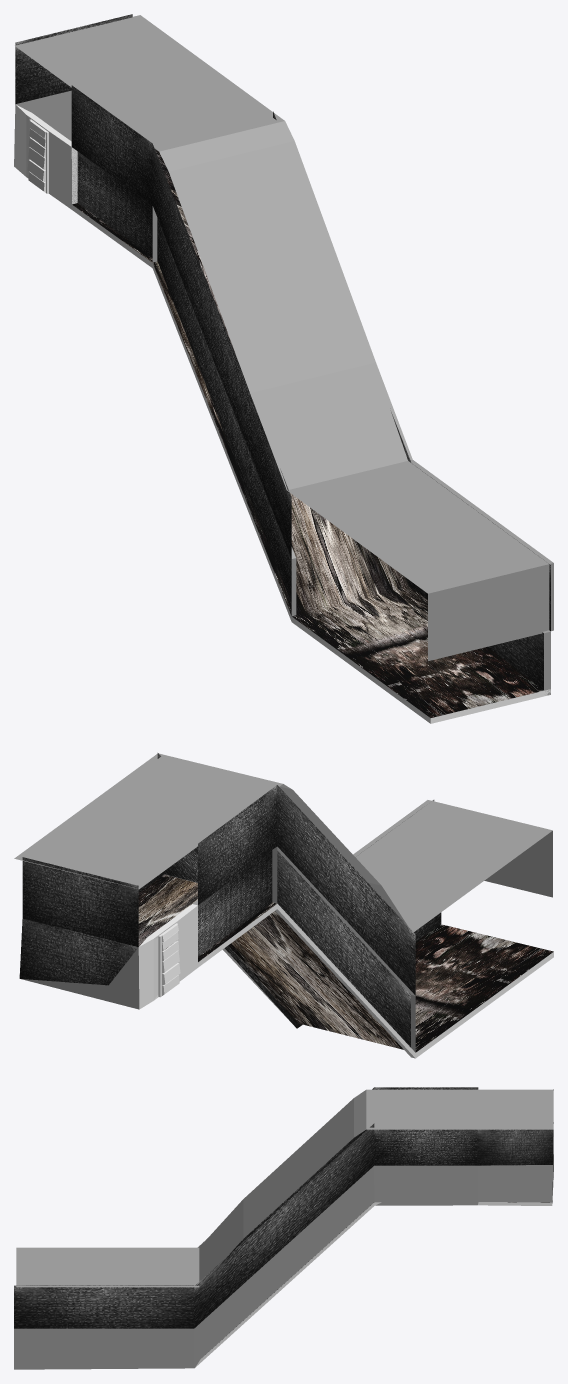
File: VENT.fbx
3 renders of one model, top to bottom at view 1: azimuth 30°, elevation 25°; view 2: azimuth 150°, elevation 25°; view 3: azimuth 270°, elevation 25°, orthographic. The views are drawn at different scales.
Visible parts, largest first — view 1: pPlane1, Vent, Vent_Wall, Vent_Entrance; view 2: Vent, pPlane1, Vent_Wall, Vent_Entrance; view 3: Vent, pPlane1.
Boxes of the visible parts, left/top/right/bottom form: pPlane1: left=15, top=15, right=553, bottom=661; Vent: left=15, top=14, right=550, bottom=723; Vent_Wall: left=14, top=104, right=77, bottom=209; Vent_Entrance: left=27, top=119, right=48, bottom=193; Vent: left=19, top=753, right=553, bottom=1058; pPlane1: left=14, top=753, right=552, bottom=932; Vent_Wall: left=138, top=904, right=197, bottom=1009; Vent_Entrance: left=158, top=923, right=180, bottom=997; Vent: left=14, top=1087, right=553, bottom=1369; pPlane1: left=16, top=1089, right=553, bottom=1287.
Bounding box in the file's own units: 2.2 × 6.04 × 11.99.
Materials: 5 (2 with a texture image).
